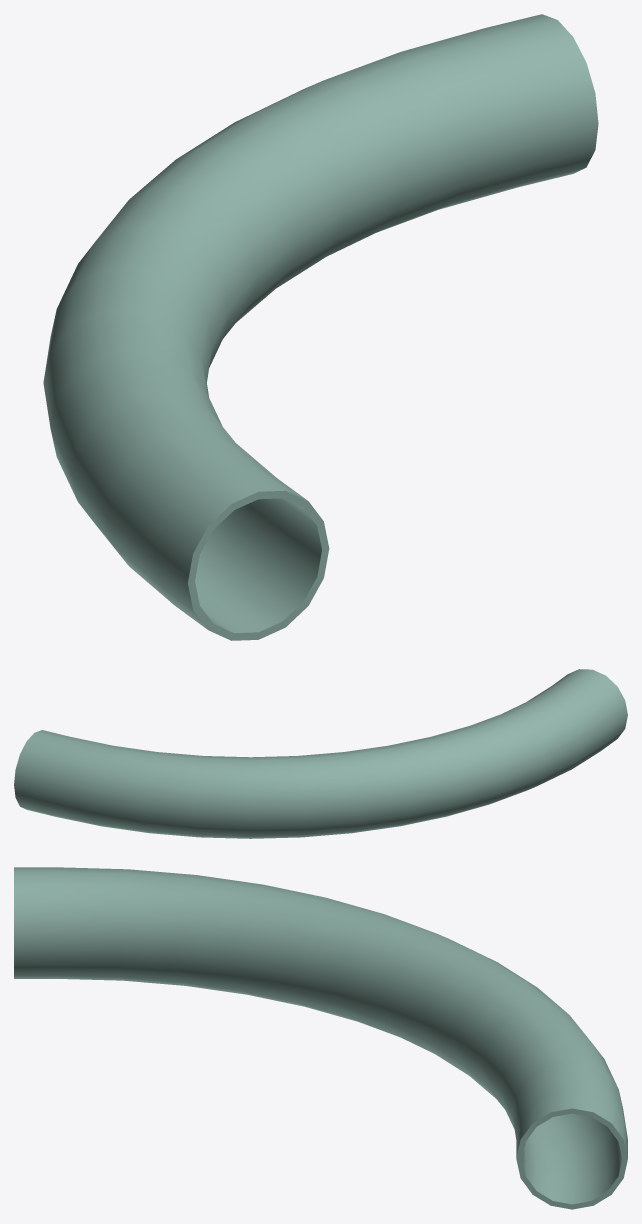
Rendered from PipeLarge_Hollow_Bent_04.fbx.
The picture shows the model from 3 angles, top to bottom: view 1: azimuth 30°, elevation 25°; view 2: azimuth 150°, elevation 25°; view 3: azimuth 270°, elevation 25°; orthographic projection. The views are drawn at different scales.
Parts seen in each view (by area): view 1: PipeLarge_Hollow_Bent_04.001; view 2: PipeLarge_Hollow_Bent_04.001; view 3: PipeLarge_Hollow_Bent_04.001.
Boxes of the visible parts, x1,y1,x2,y2 form: PipeLarge_Hollow_Bent_04.001: [43, 14, 598, 640]; PipeLarge_Hollow_Bent_04.001: [14, 669, 627, 838]; PipeLarge_Hollow_Bent_04.001: [14, 867, 627, 1209].
Bounding box in the file's own units: 1.1 × 0.2 × 1.1.
